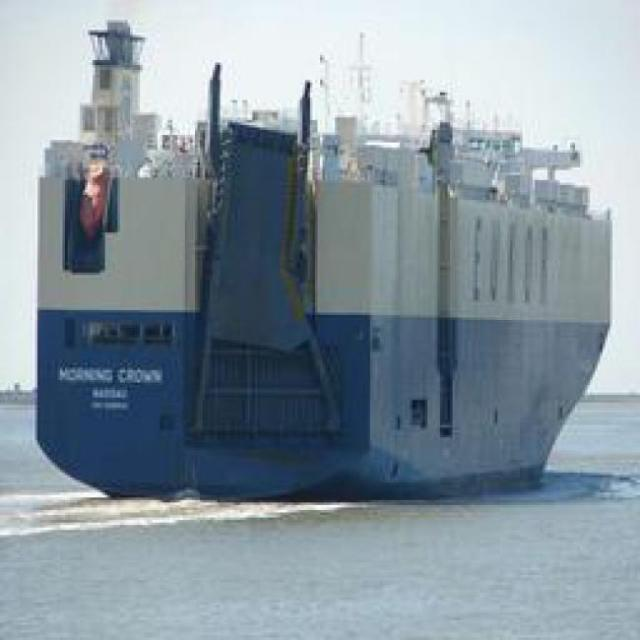boat: (24, 99, 622, 506)
